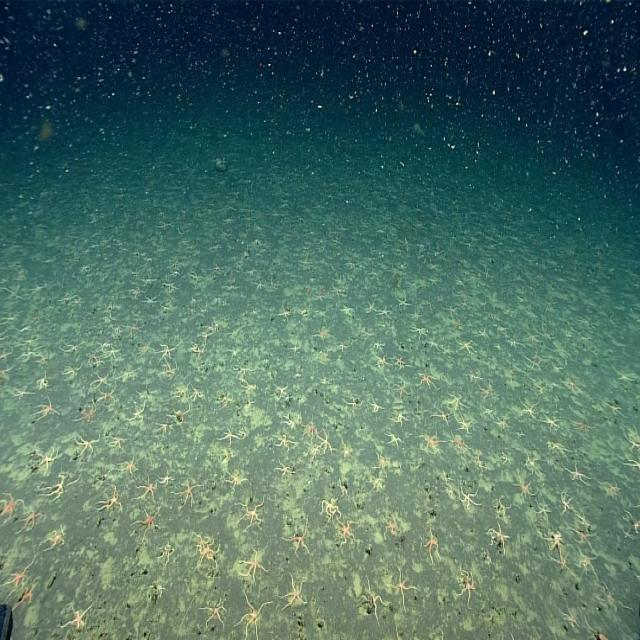brittle-stars: (231, 595, 272, 637), (0, 558, 34, 601), (358, 581, 387, 624), (234, 495, 266, 530), (285, 517, 310, 561), (130, 506, 164, 538), (601, 582, 631, 617), (387, 566, 413, 606), (59, 602, 93, 632), (239, 547, 266, 583), (279, 578, 307, 612), (11, 582, 40, 613), (565, 523, 597, 550), (201, 600, 227, 629), (172, 483, 201, 508), (36, 475, 65, 500), (457, 566, 475, 606), (487, 523, 511, 553), (0, 494, 26, 520), (575, 549, 598, 578), (35, 448, 59, 474), (564, 462, 591, 485), (420, 532, 440, 562), (32, 399, 58, 422), (456, 486, 480, 510), (319, 498, 342, 522), (76, 432, 99, 456), (583, 618, 608, 640), (99, 491, 123, 513), (222, 472, 248, 492), (553, 550, 573, 576), (521, 452, 543, 475), (73, 402, 97, 423), (419, 432, 446, 450), (62, 358, 83, 381), (339, 518, 356, 546), (301, 419, 326, 438), (43, 528, 64, 550), (134, 481, 156, 502), (513, 479, 536, 499), (560, 604, 579, 628), (381, 515, 399, 540), (546, 532, 564, 556), (200, 547, 220, 568), (447, 432, 468, 452), (576, 512, 597, 532), (166, 405, 190, 422), (111, 459, 138, 474), (274, 432, 294, 452), (271, 381, 290, 402), (446, 391, 467, 410), (416, 372, 438, 390), (603, 400, 625, 418), (114, 367, 140, 382), (0, 308, 20, 327), (191, 538, 218, 552), (518, 399, 539, 417), (541, 414, 562, 432), (273, 460, 295, 477), (161, 361, 179, 381), (96, 386, 116, 404), (390, 381, 410, 399), (383, 429, 404, 446), (430, 409, 452, 425), (18, 348, 40, 364), (58, 341, 85, 354), (317, 430, 331, 455), (625, 508, 640, 531), (454, 415, 473, 433), (122, 321, 142, 338), (570, 418, 594, 432), (92, 372, 110, 390), (127, 403, 145, 421), (523, 353, 541, 371), (492, 499, 511, 516), (373, 449, 387, 472), (156, 344, 176, 360), (158, 544, 174, 564), (455, 340, 475, 356), (619, 453, 640, 468), (552, 342, 570, 359), (625, 430, 640, 450), (220, 429, 238, 445), (536, 502, 552, 520), (600, 478, 619, 493), (559, 492, 573, 512), (196, 331, 216, 345), (310, 328, 333, 340), (0, 286, 23, 298), (394, 292, 410, 309), (168, 388, 186, 403), (104, 345, 122, 360), (82, 353, 100, 368), (340, 438, 351, 462), (279, 416, 301, 428), (393, 356, 409, 372), (233, 366, 256, 377), (158, 472, 176, 486), (546, 441, 567, 453), (342, 397, 364, 408), (189, 385, 204, 401), (476, 384, 492, 399), (274, 306, 290, 321), (108, 436, 126, 449), (14, 388, 32, 401), (389, 413, 409, 424), (240, 382, 258, 394), (0, 348, 15, 362), (155, 421, 172, 433), (127, 285, 145, 296), (374, 354, 388, 368), (525, 333, 541, 345), (408, 326, 427, 336), (562, 378, 576, 391), (374, 308, 392, 318), (465, 372, 483, 382), (216, 395, 233, 405), (37, 376, 50, 389), (191, 344, 205, 356), (498, 449, 509, 464), (368, 401, 384, 411), (475, 456, 485, 472), (508, 338, 524, 348), (365, 299, 375, 315), (338, 305, 354, 315), (162, 281, 178, 291), (494, 418, 510, 428), (143, 295, 158, 305), (0, 367, 9, 383), (338, 342, 351, 352), (441, 470, 451, 482), (394, 624, 401, 640), (507, 628, 515, 640), (438, 630, 446, 640)
